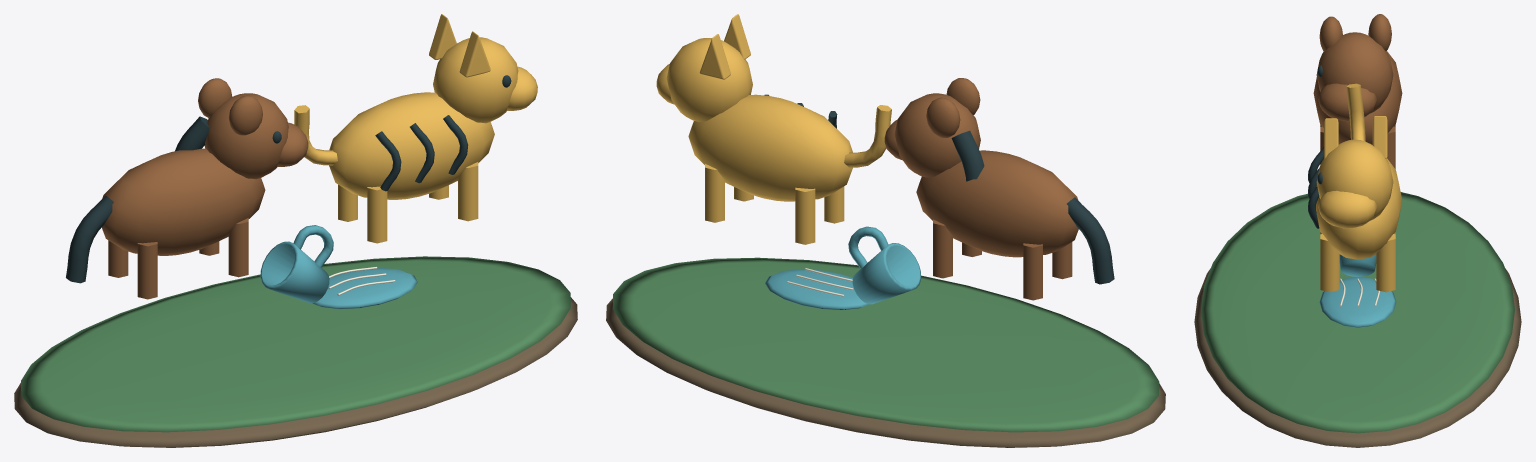
File: complete-first-careless-pair.glb
3 views of the same model, side by side, from view 1: azimuth 30°, elevation 25°; view 2: azimuth 150°, elevation 25°; view 3: azimuth 270°, elevation 25° (orthographic). The views are drawn at different scales.
Parts seen in each view (by area): view 1: complete-first-careless-pair_surface_01, complete-first-careless-pair_surface_02, complete-first-careless-pair_surface_04, complete-first-careless-pair_surface_00, complete-first-careless-pair_surface_05, complete-first-careless-pair_surface_03; view 2: complete-first-careless-pair_surface_01, complete-first-careless-pair_surface_04, complete-first-careless-pair_surface_02, complete-first-careless-pair_surface_00, complete-first-careless-pair_surface_05, complete-first-careless-pair_surface_03; view 3: complete-first-careless-pair_surface_01, complete-first-careless-pair_surface_04, complete-first-careless-pair_surface_02, complete-first-careless-pair_surface_00, complete-first-careless-pair_surface_05, complete-first-careless-pair_surface_03.
Boxes of the visible parts, <box> form: complete-first-careless-pair_surface_01: <box>21,256,570,432</box>; complete-first-careless-pair_surface_02: <box>102,78,308,299</box>; complete-first-careless-pair_surface_04: <box>294,14,537,243</box>; complete-first-careless-pair_surface_00: <box>14,297,577,447</box>; complete-first-careless-pair_surface_05: <box>260,225,417,309</box>; complete-first-careless-pair_surface_03: <box>66,75,511,283</box>; complete-first-careless-pair_surface_01: <box>612,257,1159,432</box>; complete-first-careless-pair_surface_04: <box>656,14,891,244</box>; complete-first-careless-pair_surface_02: <box>884,78,1078,300</box>; complete-first-careless-pair_surface_00: <box>606,298,1165,447</box>; complete-first-careless-pair_surface_05: <box>765,226,921,310</box>; complete-first-careless-pair_surface_03: <box>764,94,1114,284</box>; complete-first-careless-pair_surface_01: <box>1201,192,1514,433</box>; complete-first-careless-pair_surface_04: <box>1316,83,1402,292</box>; complete-first-careless-pair_surface_02: <box>1313,14,1402,168</box>; complete-first-careless-pair_surface_00: <box>1194,268,1521,447</box>; complete-first-careless-pair_surface_05: <box>1319,254,1396,327</box>; complete-first-careless-pair_surface_03: <box>1308,65,1323,228</box>.
Size of the model in its own units: 4.56 by 2.5 by 2.5.
